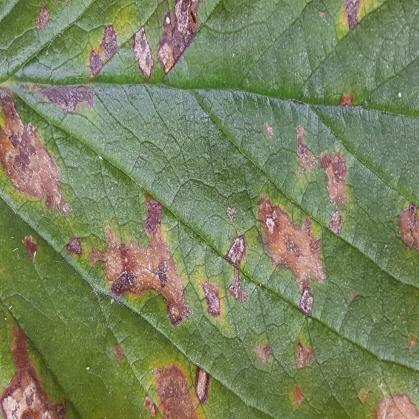Angular Leafspot: (0, 0, 418, 418)
